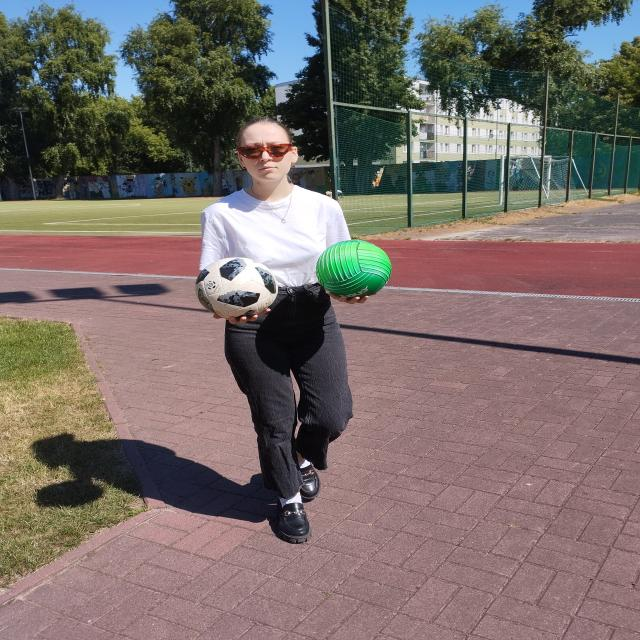nozna: (195, 257, 278, 318)
zielona: (316, 240, 392, 297)
